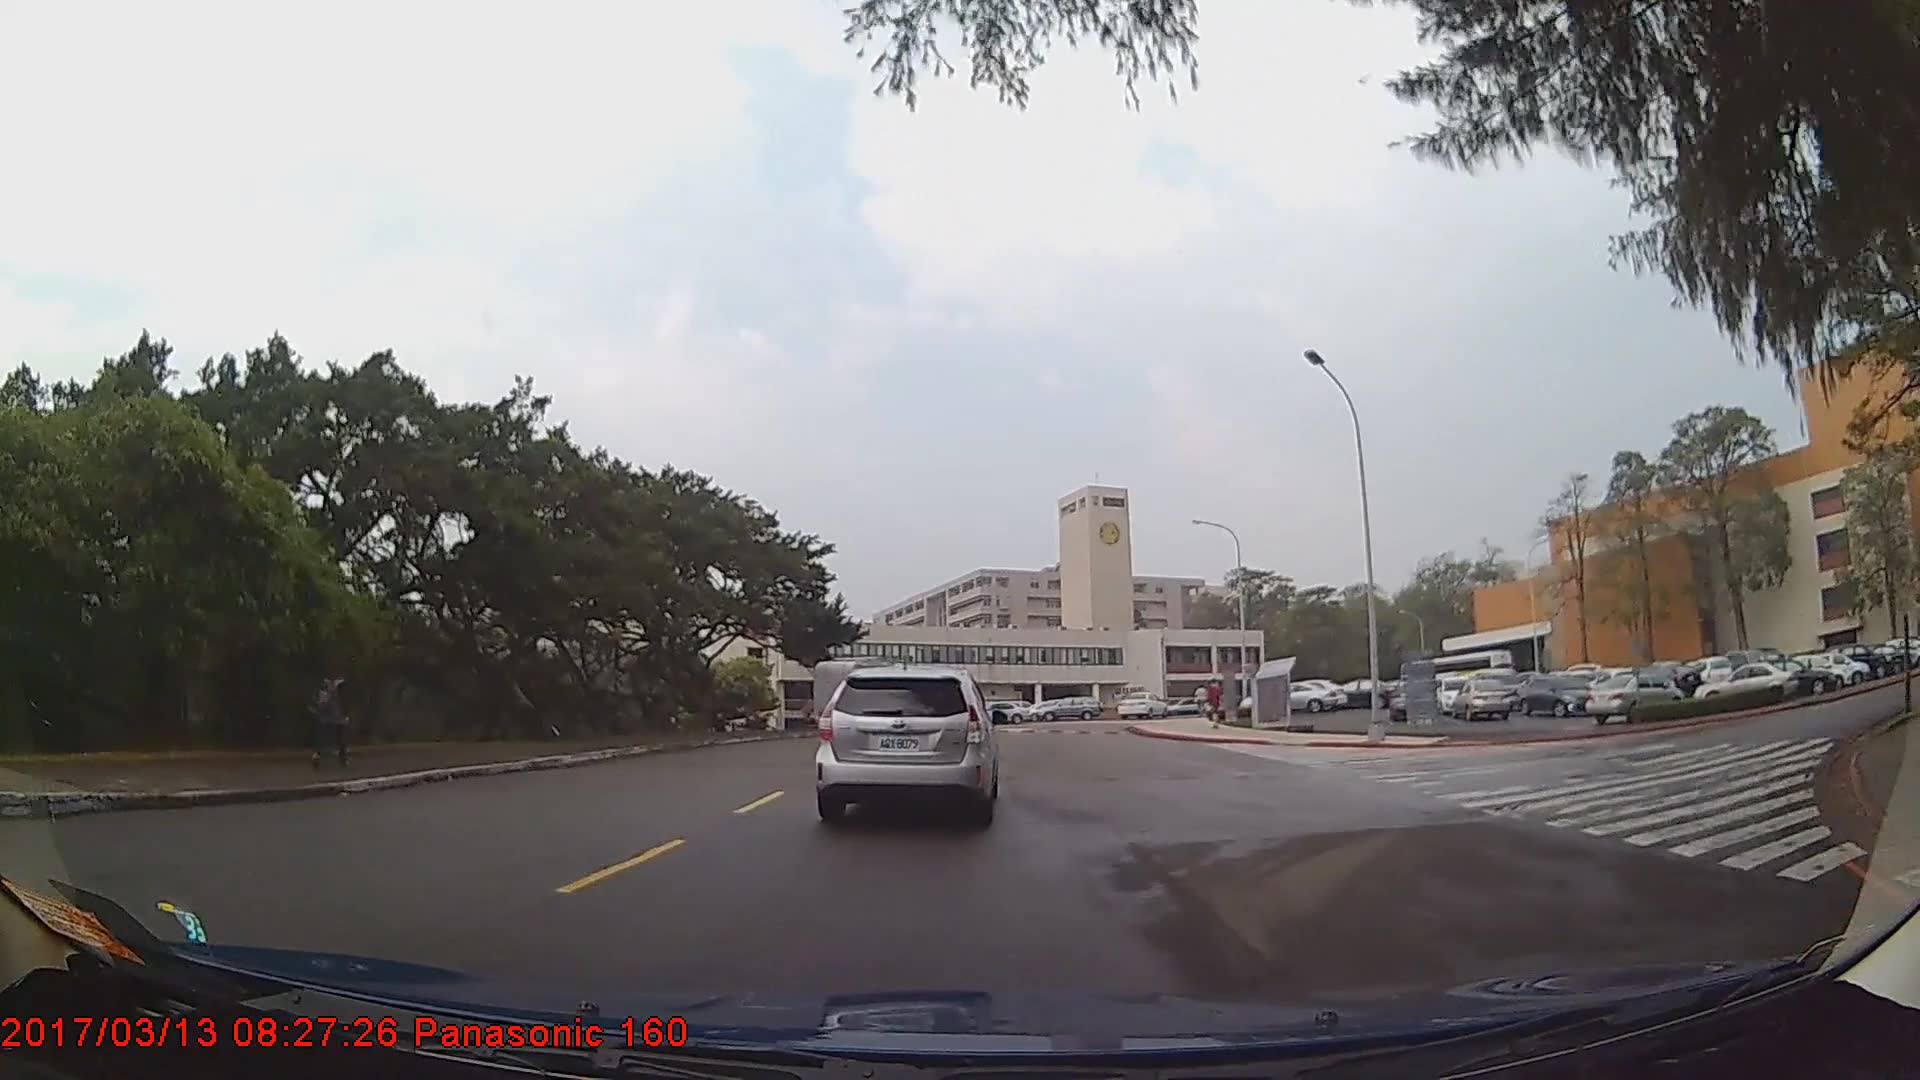pedestrian: (303, 658, 353, 769), (1205, 680, 1225, 731)
vehicle: (816, 664, 994, 824), (1587, 670, 1680, 724), (1692, 657, 1795, 705), (1742, 655, 1837, 698), (1239, 678, 1336, 715), (1520, 671, 1597, 715), (1449, 675, 1512, 721), (1036, 694, 1103, 721), (1116, 690, 1166, 721), (974, 699, 1033, 724)
